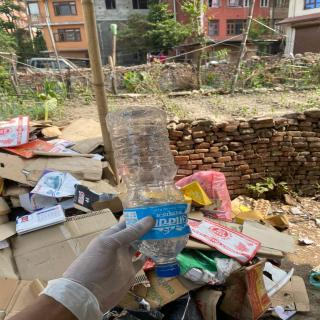Plastic-bottle: (105, 106, 195, 281)
